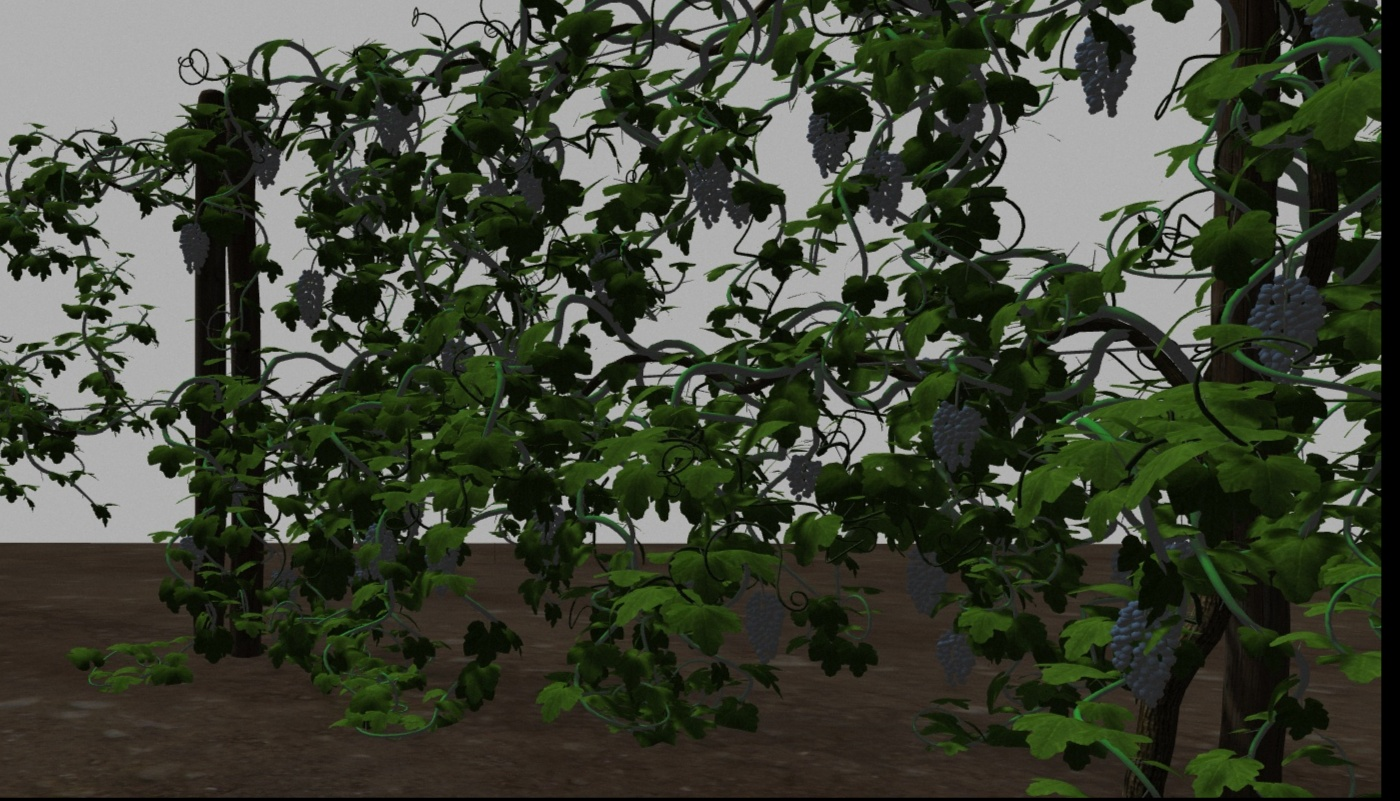grape: (1108, 597, 1182, 709), (1247, 275, 1325, 372), (1075, 17, 1136, 118), (927, 404, 981, 475), (737, 588, 785, 663), (859, 149, 906, 225), (686, 152, 730, 226), (807, 103, 850, 177), (905, 544, 945, 616), (934, 627, 976, 686), (375, 97, 413, 157), (511, 152, 548, 209), (291, 269, 325, 329), (362, 522, 396, 580), (783, 455, 820, 504), (250, 139, 280, 190), (180, 224, 209, 274)
